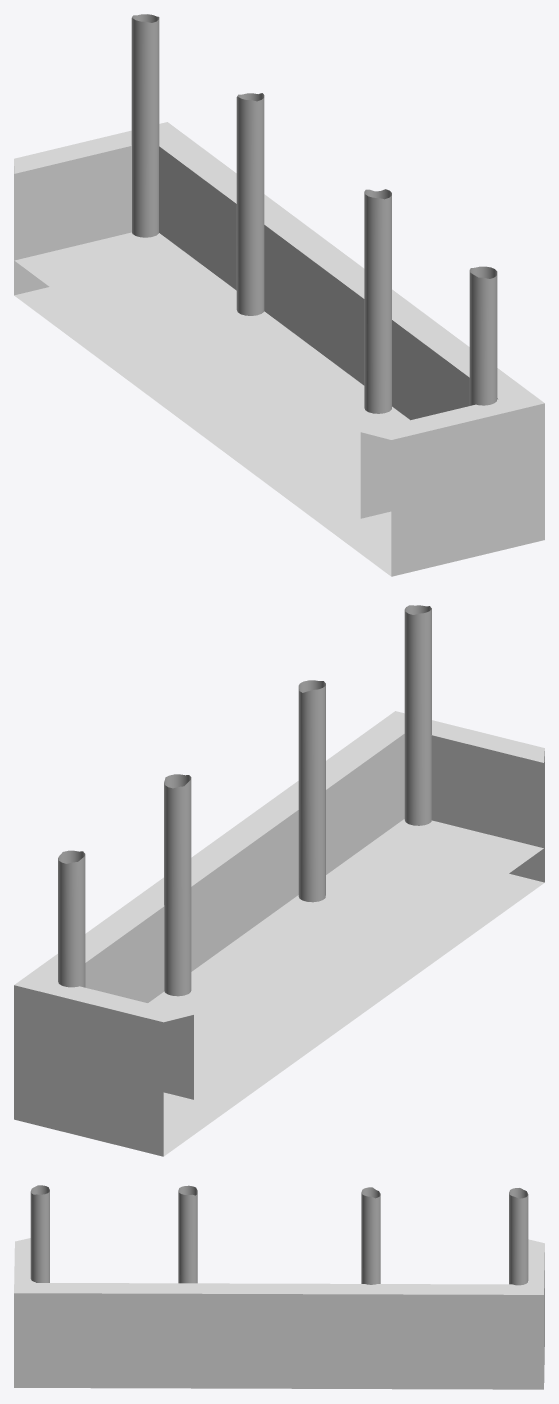
The model's file is Tavern  (Balcony).fbx.
The picture shows the model from 3 angles, top to bottom: view 1: azimuth 30°, elevation 25°; view 2: azimuth 150°, elevation 25°; view 3: azimuth 270°, elevation 25°; orthographic projection. The views are drawn at different scales.
Parts seen in each view (by area): view 1: Tavern (Balcony); view 2: Tavern (Balcony); view 3: Tavern (Balcony).
Boxes of the visible parts, bbox=[...] form: Tavern (Balcony): bbox=[14, 14, 544, 576]; Tavern (Balcony): bbox=[14, 605, 544, 1156]; Tavern (Balcony): bbox=[14, 1185, 544, 1389].
Size of the model in its own units: 416 by 611 by 1596.
